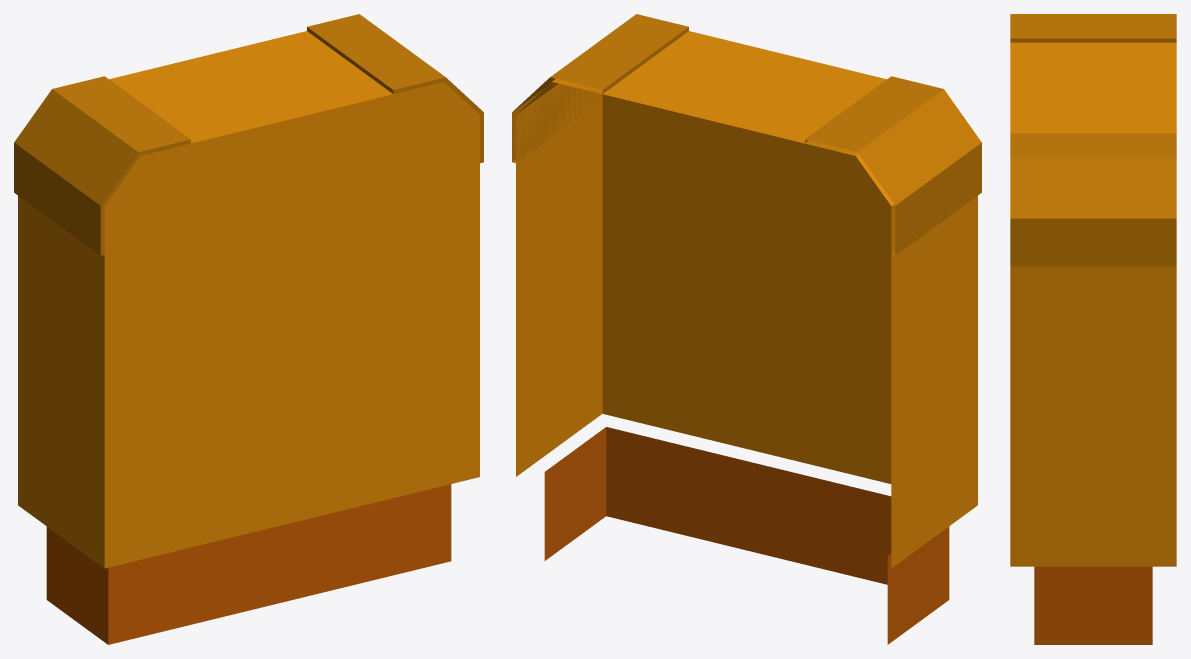
The model's file is upgradeMech.fbx.
The picture shows the model from 3 angles, left to right: view 1: azimuth 30°, elevation 25°; view 2: azimuth 150°, elevation 25°; view 3: azimuth 270°, elevation 25°; orthographic projection. The views are drawn at different scales.
Visible parts, largest first — view 1: 立方体.005; view 2: 立方体.005; view 3: 立方体.005.
Part boxes in pixels (<box>): 立方体.005: <box>14,14,483,644</box>; 立方体.005: <box>512,14,981,644</box>; 立方体.005: <box>1010,14,1176,644</box>.
Size of the model in its own units: 184 by 228 by 71.68.
